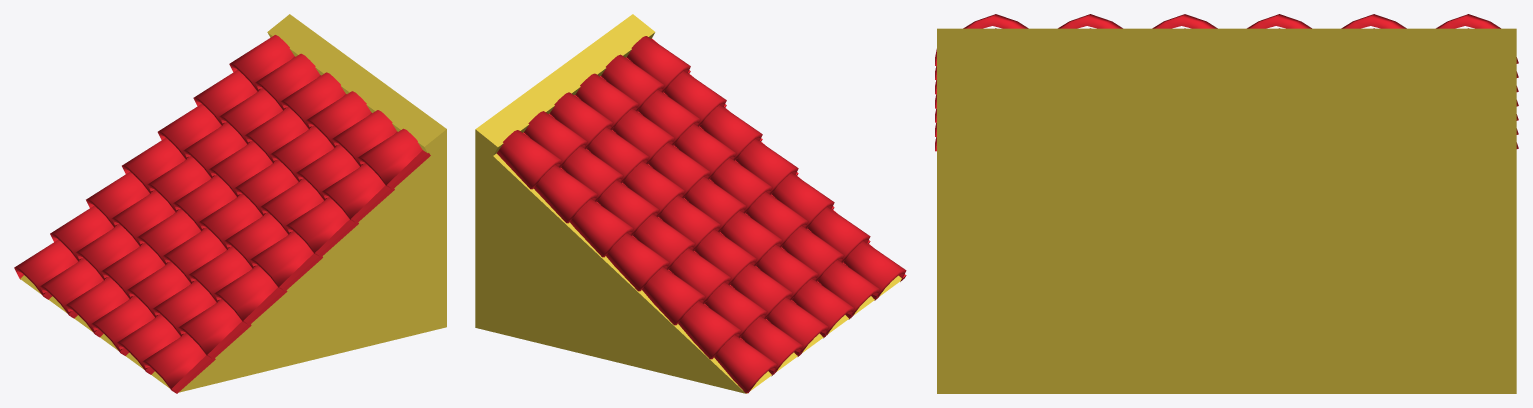
File: TejadoDe1.fbx
3 views of the same model, side by side, from view 1: azimuth 30°, elevation 25°; view 2: azimuth 150°, elevation 25°; view 3: azimuth 270°, elevation 25° (orthographic). The views are drawn at different scales.
Visible parts, largest first — view 1: Tejado.011, Cube.005; view 2: Tejado.011, Cube.005; view 3: Cube.005, Tejado.011.
Part boxes in pixels (<box>): Tejado.011: <box>14,35,430,393</box>; Cube.005: <box>20,14,446,392</box>; Tejado.011: <box>496,36,906,393</box>; Cube.005: <box>475,14,901,393</box>; Cube.005: <box>937,28,1516,393</box>; Tejado.011: <box>935,14,1518,151</box>.
Bounding box in the file's own units: 398 × 268 × 386.
